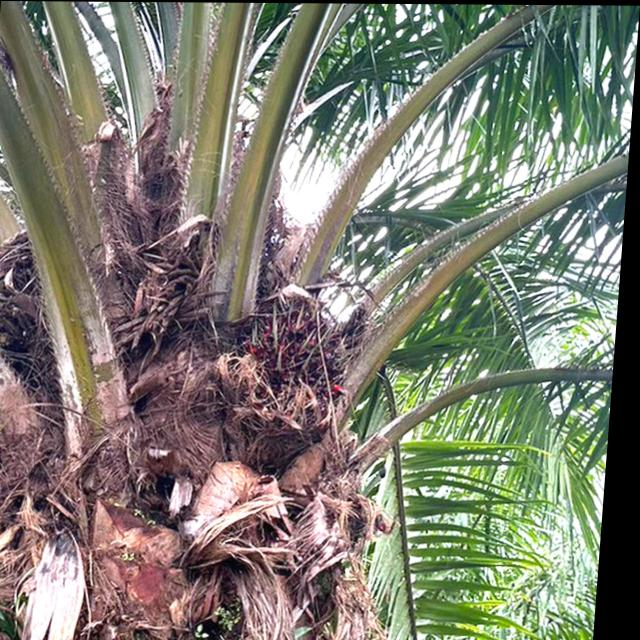ripe: (235, 291, 370, 406)
